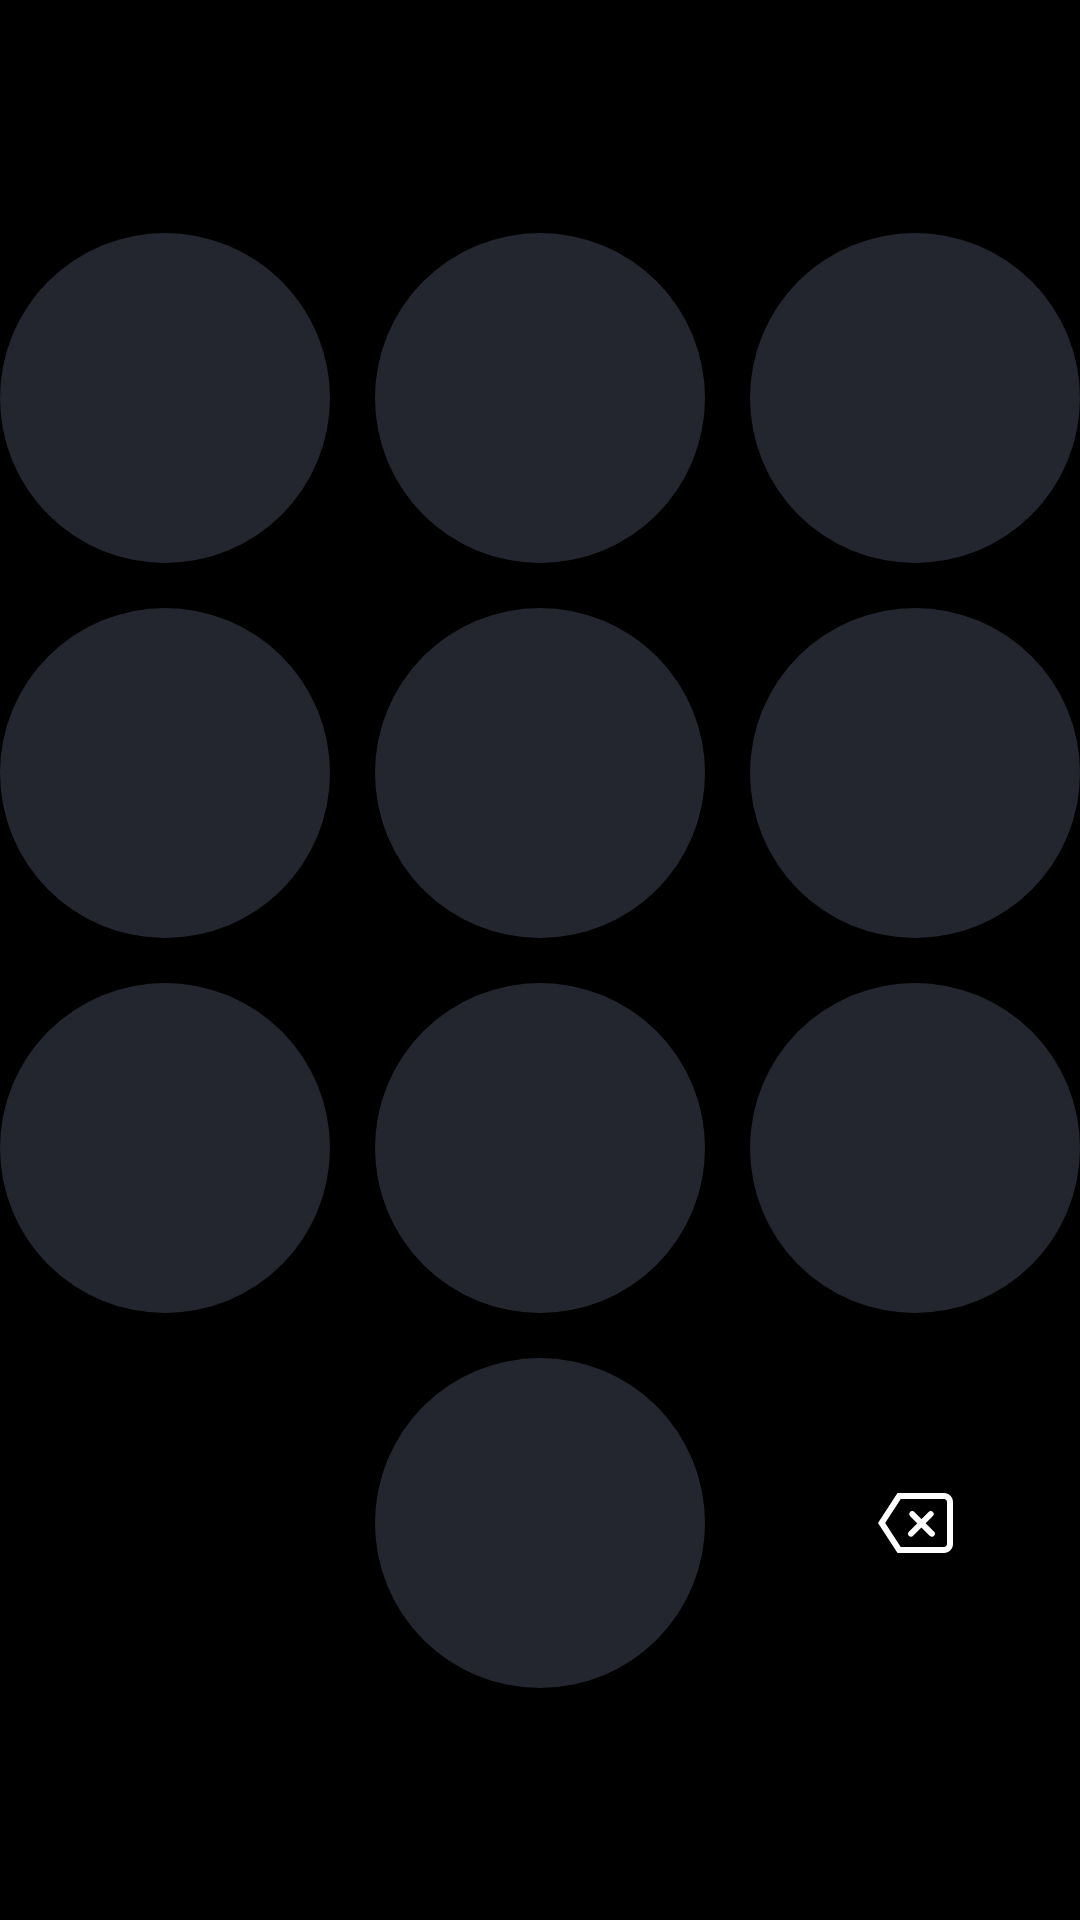

Icon bounding boxes for this 1080px x 1920px phone screenshot, format rect(x1, y1, x2, y2):
backspace: rect(878, 1493, 953, 1553)
